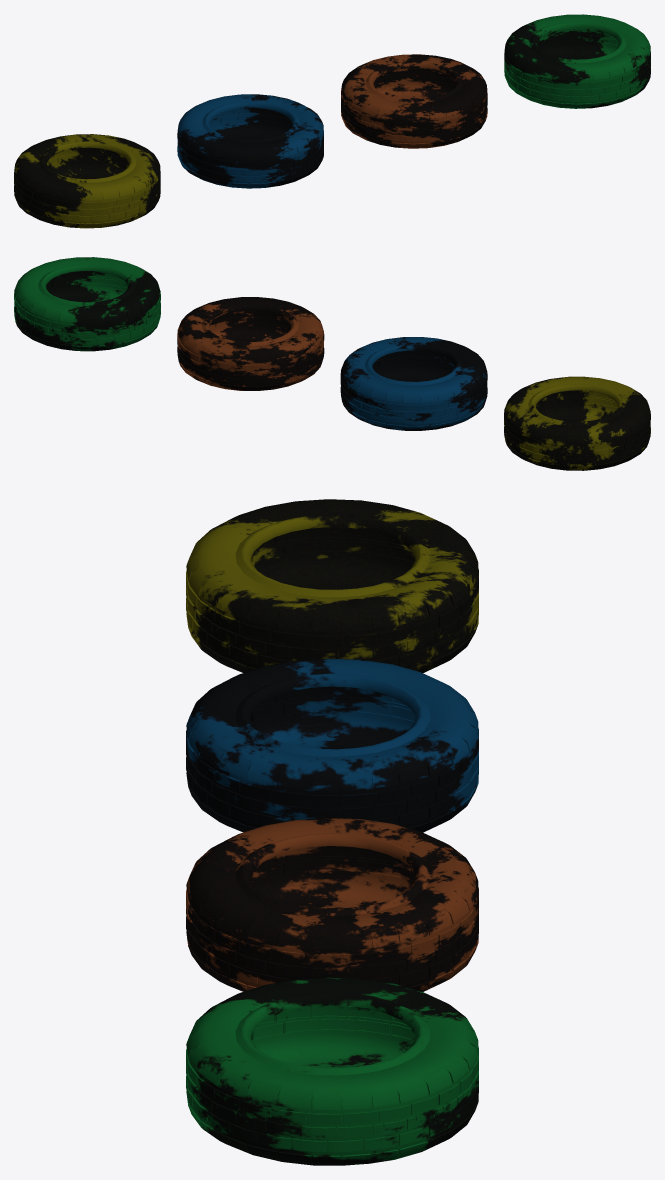
File: SM_Tire.fbx
The picture shows the model from 3 angles, top to bottom: view 1: azimuth 30°, elevation 25°; view 2: azimuth 150°, elevation 25°; view 3: azimuth 270°, elevation 25°; orthographic projection. The views are drawn at different scales.
Parts seen in each view (by area): view 1: SM_Tire_2, SM_Tire_1, SM_Tire_4, SM_Tire_3; view 2: SM_Tire_4, SM_Tire_2, SM_Tire_3, SM_Tire_1; view 3: SM_Tire_1, SM_Tire_2, SM_Tire_4, SM_Tire_3.
Part boxes in pixels (<box>): SM_Tire_2: <box>341,54,487,148</box>; SM_Tire_1: <box>504,14,650,108</box>; SM_Tire_4: <box>14,134,160,228</box>; SM_Tire_3: <box>177,94,323,188</box>; SM_Tire_4: <box>504,376,650,470</box>; SM_Tire_2: <box>177,297,324,390</box>; SM_Tire_3: <box>340,337,487,430</box>; SM_Tire_1: <box>14,257,160,351</box>; SM_Tire_1: <box>186,977,478,1165</box>; SM_Tire_2: <box>186,818,478,991</box>; SM_Tire_4: <box>186,499,478,672</box>; SM_Tire_3: <box>186,658,478,832</box>.
Bounding box in the file's own units: 15.11 × 0.971 × 3.11.
2 materials, 2 textured.
